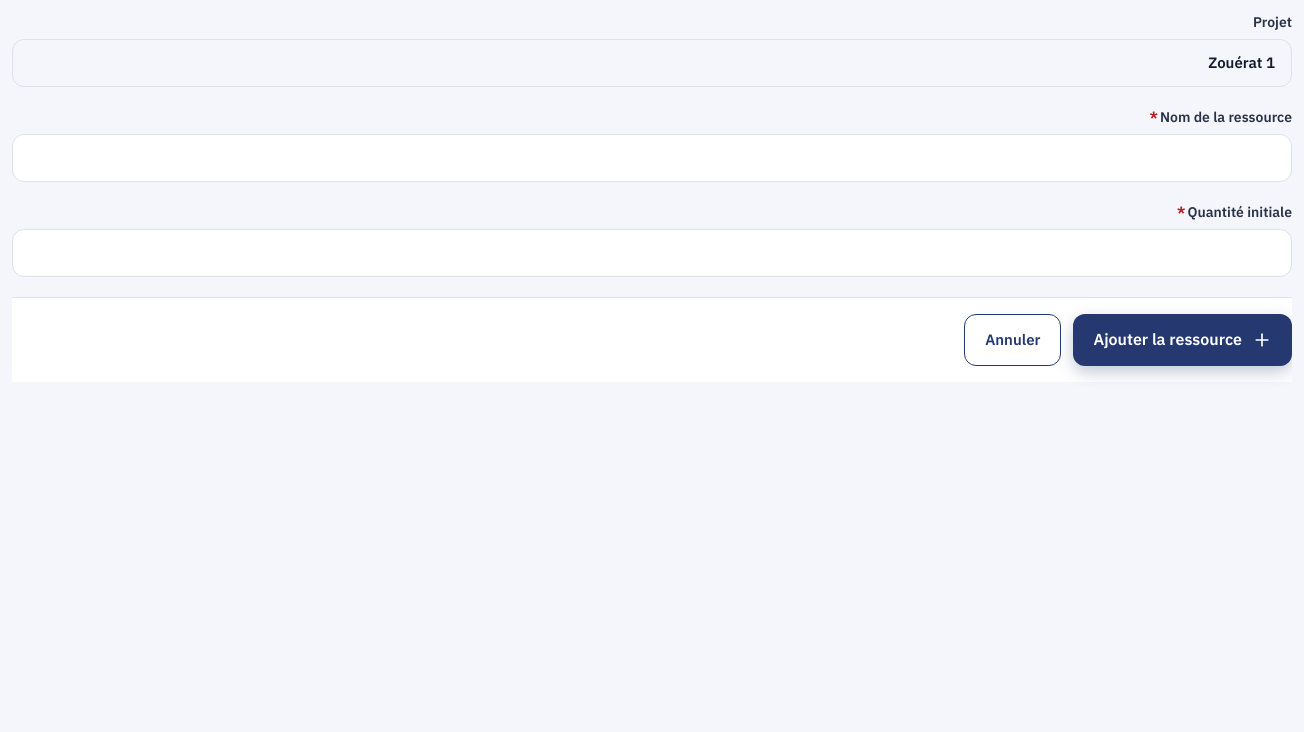
ResourceForm › shows the backend's refusal of a name the project already has
This screenshot has width=1304, height=732.
Type "Chaux" into the field labelled "Nom de la ressource". click: (652, 158)
box: [12,134,1292,182]
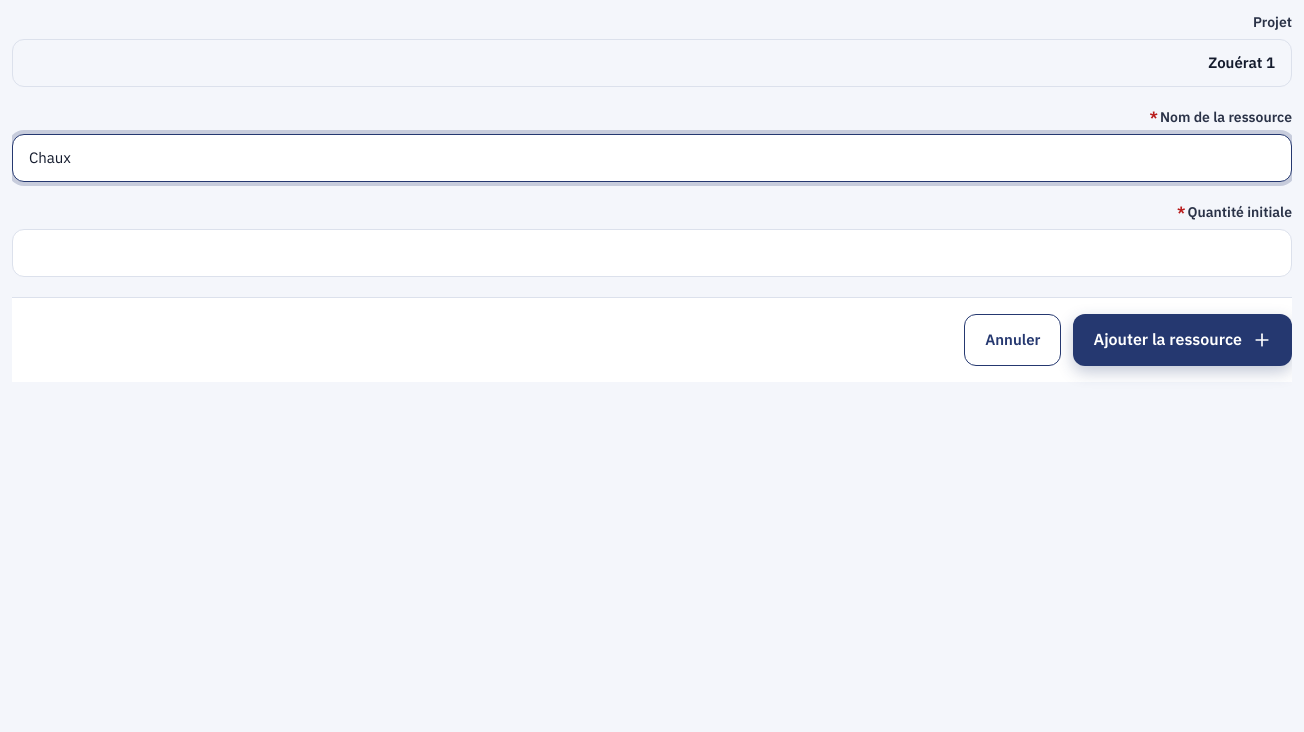
Type "1" into the number field labelled "Quantité initiale". click: (652, 253)
box: [12,229,1292,277]
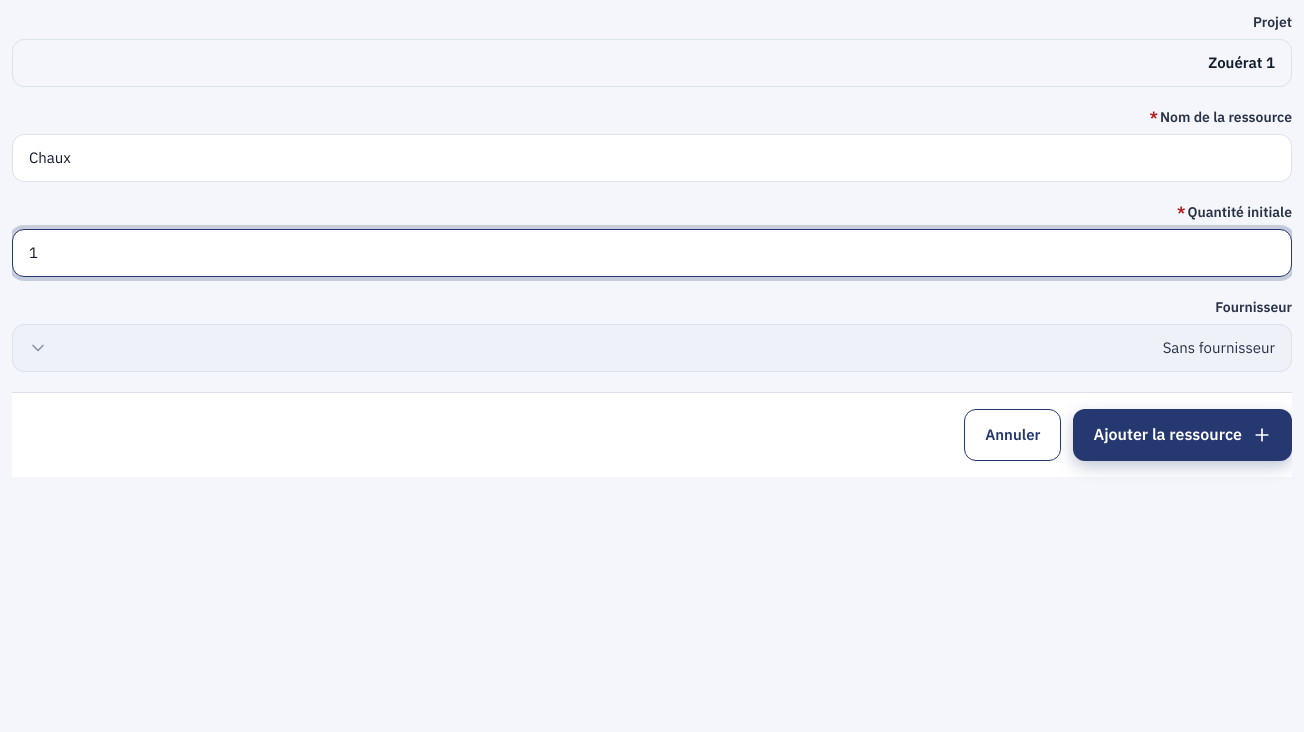
Click the button "Ajouter la ressource". click: (1183, 435)
box: [1073,409,1292,461]
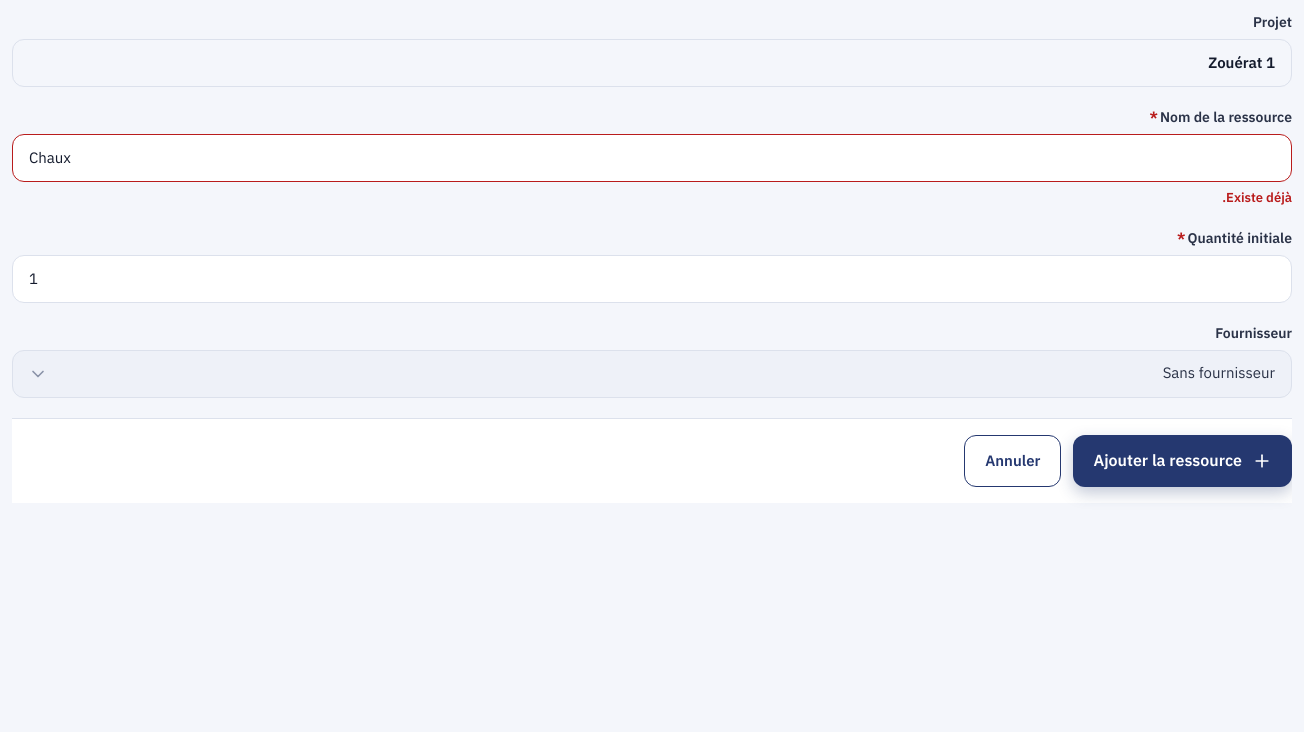
Now the text "Existe déjà." is shown, box [1222,188,1292,207]
